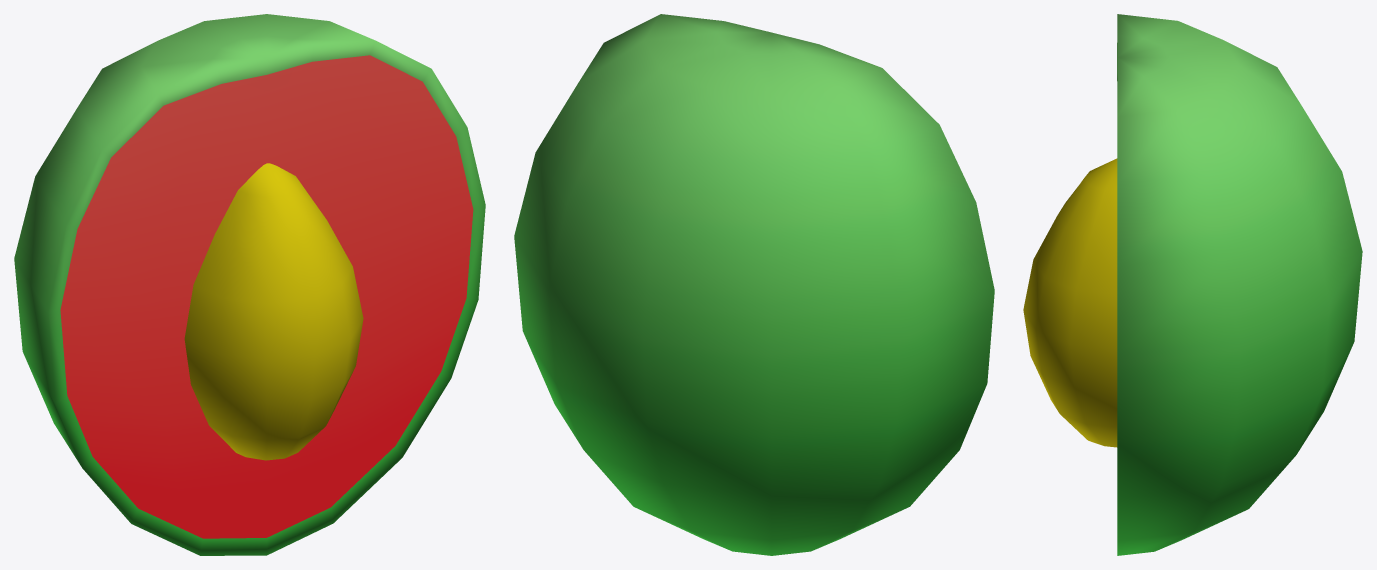
The model's file is Plum_half_02_red.fbx.
3 renders of one model, left to right at view 1: azimuth 30°, elevation 25°; view 2: azimuth 150°, elevation 25°; view 3: azimuth 270°, elevation 25°, orthographic. The views are drawn at different scales.
Parts seen in each view (by area): view 1: Plum_half_02_red; view 2: Plum_half_02_red; view 3: Plum_half_02_red.
Part boxes in pixels (x1,y1,x2,y2): Plum_half_02_red: (14,14,485,555); Plum_half_02_red: (514,14,994,555); Plum_half_02_red: (1023,14,1362,555).
Size of the model in its own units: 72.29 by 78.38 by 49.98.
